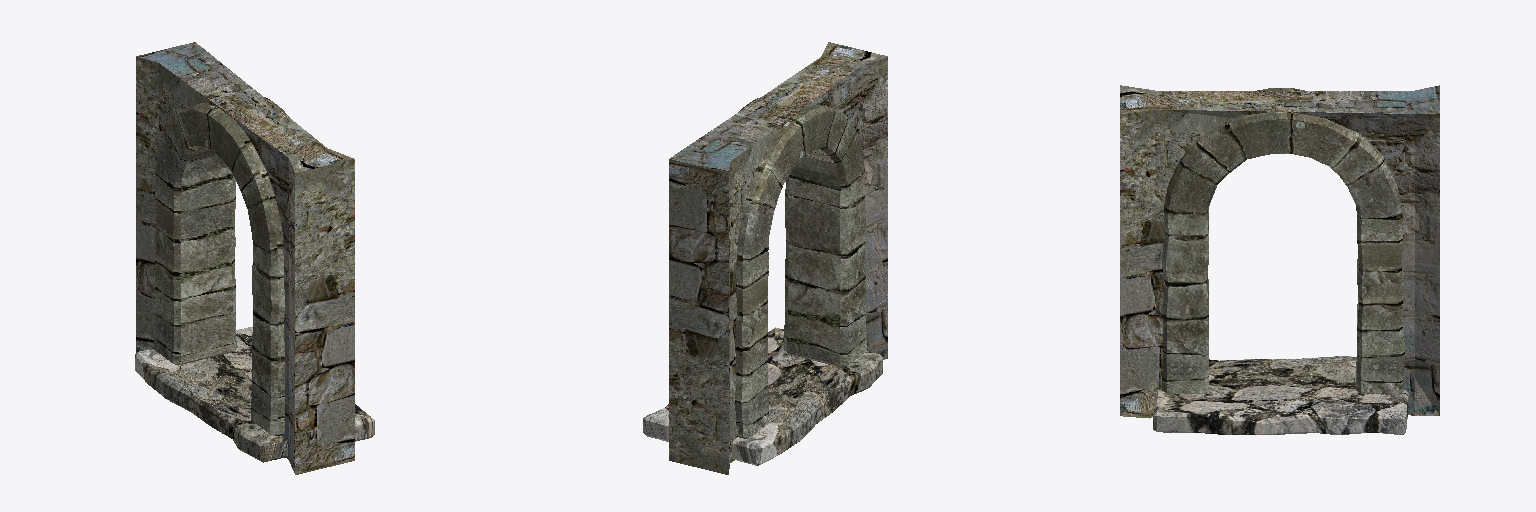
The picture shows the model from 3 angles: view 1: azimuth 30°, elevation 25°; view 2: azimuth 150°, elevation 25°; view 3: azimuth 270°, elevation 25°; orthographic projection.
Visible parts, largest first — view 1: Box01, ChamferBox02, ChamferBox01; view 2: Box01, ChamferBox02, ChamferBox01; view 3: Box01, ChamferBox02, ChamferBox01.
Boxes of the visible parts, <box> form: Box01: <box>136,42,354,474</box>; ChamferBox02: <box>153,97,289,435</box>; ChamferBox01: <box>135,327,374,462</box>; Box01: <box>669,42,887,474</box>; ChamferBox02: <box>735,97,866,438</box>; ChamferBox01: <box>643,327,882,465</box>; Box01: <box>1120,85,1439,418</box>; ChamferBox02: <box>1162,88,1404,393</box>; ChamferBox01: <box>1153,356,1408,434</box>.
Size of the model in its own units: 1.19 by 2.72 by 2.61.
3 materials, 3 textured.